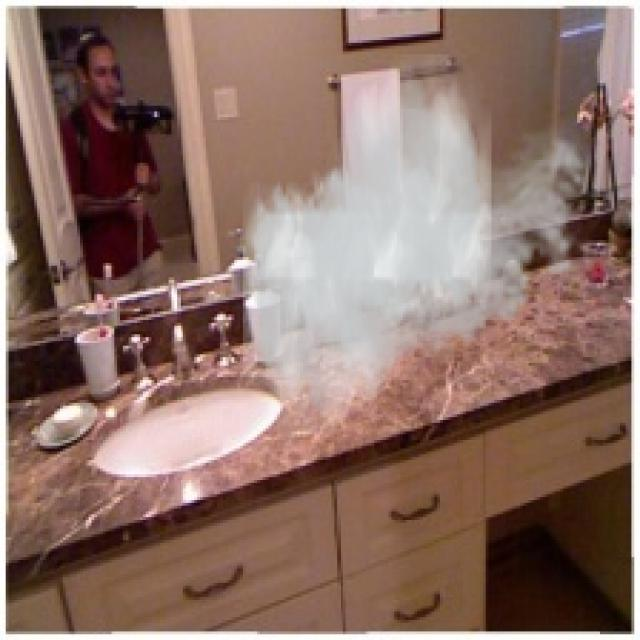smoke: (243, 54, 597, 437)
